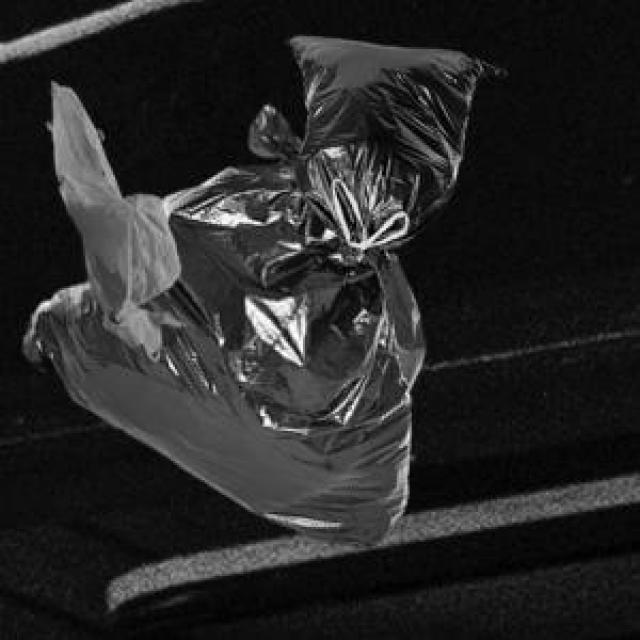miscellaneous trash: (19, 100, 420, 544), (282, 32, 504, 245)
